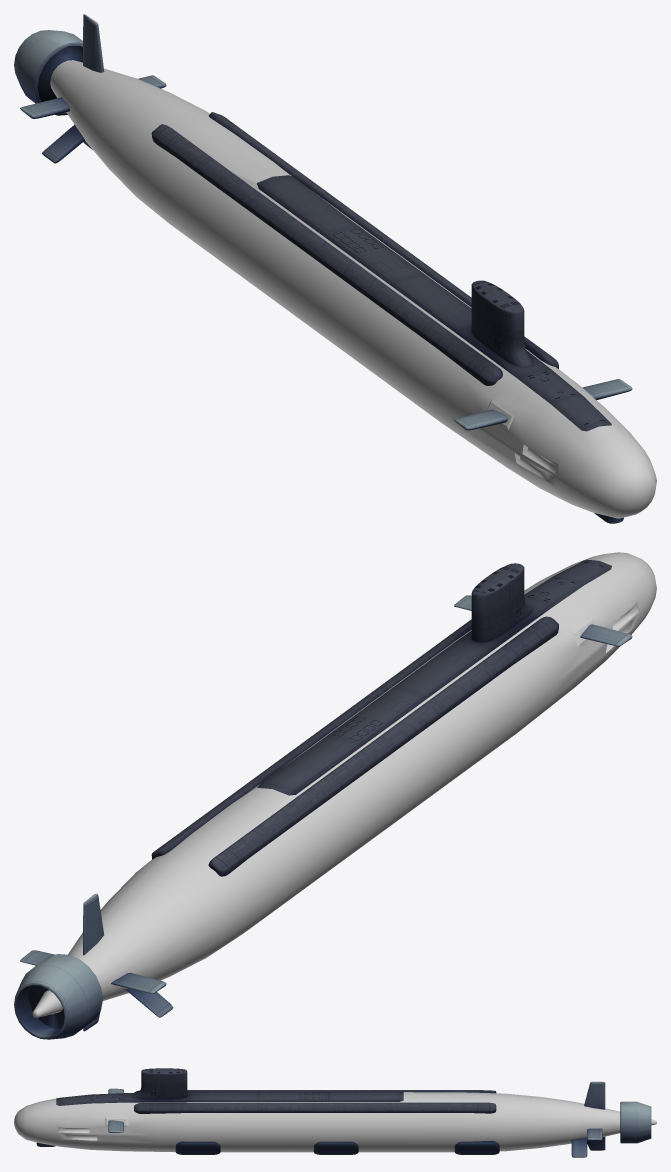
File: submarine_01b.fbx
3 views of the same model, one above another, from view 1: azimuth 30°, elevation 25°; view 2: azimuth 150°, elevation 25°; view 3: azimuth 270°, elevation 25° (orthographic). The views are drawn at different scales.
Parts seen in each view (by area): view 1: submrene; view 2: submrene; view 3: submrene.
Part boxes in pixels (box(x1,y1,x2,y2)): submrene: box(14, 14, 656, 523); submrene: box(14, 552, 656, 1039); submrene: box(14, 1068, 656, 1157).
Size of the model in its own units: 18.21 by 15.79 by 114.
